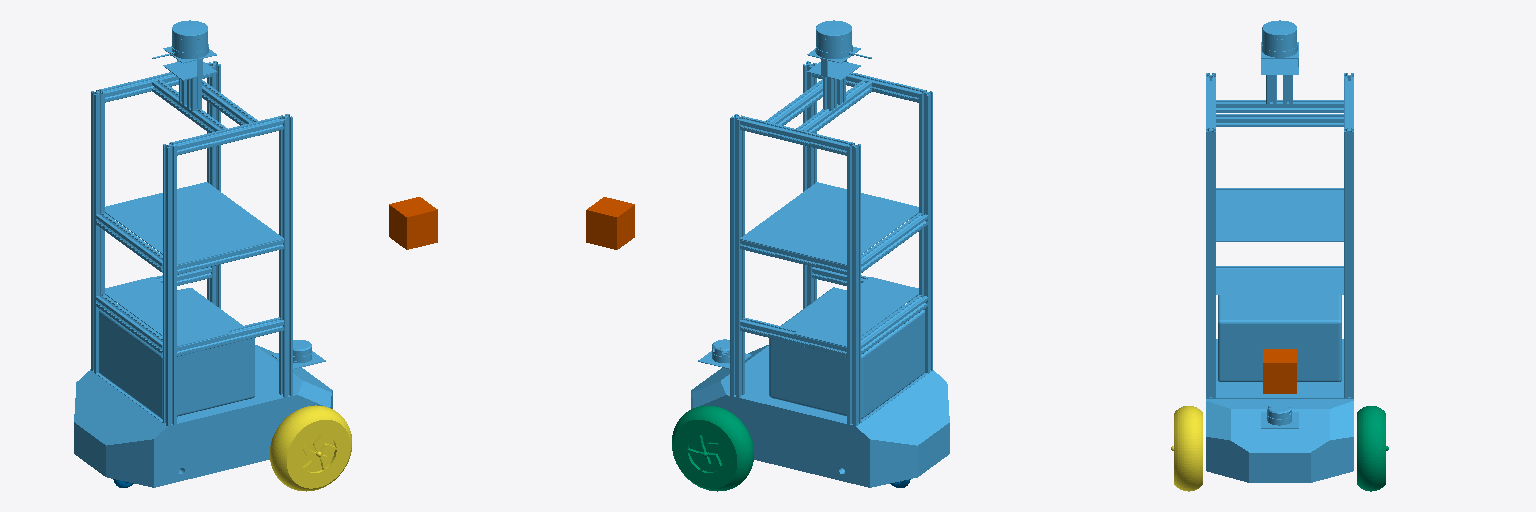
robot.urdf — autolabor_description:
<?xml version="1.0"?>
<robot name="autolabor_description">
  <joint name="dummy_joint" type="fixed">
    <parent link="base_link"/>
    <child link="body"/>
    <origin xyz="0 0 0.124" rpy="0 0 0"/>
  </joint>
  <joint name="cam_joint" type="fixed">
    <parent link="body"/>
    <child link="camera"/>
    <origin xyz="0.7 0 0.5" rpy="0 1.570796327 0"/>
  </joint>
  <joint name="3d_joint" type="fixed">
    <parent link="body"/>
    <child link="3d"/>
    <origin xyz="0 0 1.5" rpy="0 0 0"/>
  </joint>
  <joint name="fljoint" type="continuous">
    <parent link="body"/>
    <child link="flw"/>
    <origin rpy="0 0 0" xyz="0.22 0.275 0.03"/>
    <axis xyz="0 1 0"/>
  </joint>
  <joint name="frjoint" type="continuous">
    <parent link="body"/>
    <child link="frw"/>
    <origin rpy="0 0 0" xyz="0.22 -0.275 0.03"/>
    <axis xyz="0 1 0"/>
  </joint>
  <joint name="cjoint" type="fixed">
    <parent link="body"/>
    <child link="caster"/>
    <origin rpy="0 0 0" xyz="-0.221 0 -0.056"/>
  </joint>

  <link name="base_link"/>
  <link name="body">
    <inertial>
      <mass value="40"/>
      <origin rpy="0  0  0" xyz="0 0 0"/>
      <inertia ixx="5.95042" ixy="0" ixz="0" iyy="7.091" iyz="0" izz="2.37325"/>
    </inertial>
    <collision>
      <origin rpy="0  0  0" xyz="0 0 0"/>
      <geometry>
        <mesh filename="package://autolabor_description/meshes/3d_model/body.stl" scale="0.001 0.001 0.001"/>
      </geometry>
    </collision>
    <visual>
      <origin rpy="0  0  0" xyz="0 0 0"/>
      <geometry>
        <mesh filename="package://autolabor_description/meshes/3d_model/body.stl" scale="0.001 0.001 0.001"/>
      </geometry>
    </visual>
  </link>
  <link name="flw">
    <inertial>
      <mass value="5"/>
      <origin rpy="3.141592654  0  0" xyz="0 0 0"/>
      <inertia ixx="0.729167" ixy="0" ixz="0" iyy="0.729167" iyz="0" izz="0.625"/>
    </inertial>
    <collision>
      <origin rpy="3.141592654  0  0" xyz="0  0  0"/>
      <geometry>
        <mesh filename="package://autolabor_description/meshes/3d_model/frw.stl" scale="0.001 0.001 0.001"/>
      </geometry>
    </collision>
    <visual>
      <origin rpy="3.141592654  0  0" xyz="0  0  0"/>
      <geometry>
        <mesh filename="package://autolabor_description/meshes/3d_model/frw.stl" scale="0.001 0.001 0.001"/>
      </geometry>
    </visual>
  </link>
  <link name="frw">
    <inertial>
      <mass value="5"/>
      <origin rpy="0  0  0" xyz="0 0 0"/>
      <inertia ixx="0.729167" ixy="0" ixz="0" iyy="0.729167" iyz="0" izz="0.625"/>
    </inertial>
    <collision>
      <origin rpy="0  0  0" xyz="0 0 0"/>
      <geometry>
        <mesh filename="package://autolabor_description/meshes/3d_model/frw.stl" scale="0.001 0.001 0.001"/>
      </geometry>
    </collision>
    <visual>
      <origin rpy="0  0  0" xyz="0 0 0"/>
      <geometry>
        <mesh filename="package://autolabor_description/meshes/3d_model/frw.stl" scale="0.001 0.001 0.001"/>
      </geometry>
    </visual>
  </link>
  <link name="caster">
    <inertial>
      <mass value="5"/>
      <origin rpy="0  0  0" xyz="0 0 0"/>
      <inertia ixx="0.729167" ixy="0" ixz="0" iyy="0.729167" iyz="0" izz="0.625"/>>
    </inertial>
    <collision>
      <origin rpy="0  0  0" xyz="0  0  0"/>
      <geometry>
        <mesh filename="package://autolabor_description/meshes/3d_model/caster.stl" scale="0.001 0.001 0.001"/>
      </geometry>
    </collision>
    <visual>
      <origin rpy="0  0  0" xyz="0  0  0"/>
      <geometry>
        <mesh filename="package://autolabor_description/meshes/3d_model/caster.stl" scale="0.001 0.001 0.001"/>
      </geometry>
    </visual>
  </link>
  <link name="camera">
    <inertial>
      <mass value="0.001"/>
      <origin rpy="0 0 0" xyz="0 0 0"/>
      <inertia ixx="0.000166667" iyy="0.000166667" izz="0.000166667" ixy="0" ixz="0" iyz="0"/>
    </inertial>
    <collision>
      <origin rpy="0 0 0" xyz="0 0 0"/>
      <geometry>
        <box size="0.1 0.1 0.1"/>
      </geometry>
    </collision>
    <visual>
      <origin rpy="0 0 0" xyz="0 0 0"/>
      <geometry>
        <box size="0.1 0.1 0.1"/>
      </geometry>
    </visual>
  </link>
  <link name="3d"/>


  <transmission name="tran1">
    <type>transmission_interface/SimpleTransmission</type>
    <joint name="frjoint">
      <hardwareInterface>hardware_interface/VelocityJointInterface</hardwareInterface>
    </joint>
    <actuator name="motor1">
      <mechanicalReduction>1</mechanicalReduction>
    </actuator>
  </transmission>
  <transmission name="tran2">
    <type>transmission_interface/SimpleTransmission</type>
    <joint name="fljoint">
      <hardwareInterface>hardware_interface/VelocityJointInterface</hardwareInterface>
    </joint>
    <actuator name="motor2">
      <mechanicalReduction>1</mechanicalReduction>
    </actuator>
  </transmission>

  <gazebo reference="base_link">
    <mu1>1e+6</mu1>
    <mu2>1e+6</mu2>
  </gazebo>
  <gazebo reference="flw">
    <mu1>1e+6</mu1>
    <mu2>1e+6</mu2>
  </gazebo>
  <gazebo reference="frw">
    <mu1>1e+6</mu1>
    <mu2>1e+6</mu2>
  </gazebo>
  <gazebo reference="caster">
    <mu1>0</mu1>
    <mu2>0</mu2>
  </gazebo>
  <gazebo>
    <plugin name="imu_plugin" filename="libgazebo_ros_imu.so">
      <alwaysOn>true</alwaysOn>
      <bodyName>base_link</bodyName>
      <topicName>imu</topicName>
      <serviceName>imu_service</serviceName>
      <gaussianNoise>0.0</gaussianNoise>
      <updateRate>20.0</updateRate>
    </plugin>
  </gazebo>
  <gazebo reference="camera">
    <sensor type="camera" name="camera">
      <update_rate>60.0</update_rate>
      <camera>
        <horizontal_fov>1.5</horizontal_fov>
        <image>
          <width>1080</width>
          <height>720</height>
          <format>R8G8B8</format>
        </image>
        <clip>
          <near>0.1</near>
          <far>10</far>
        </clip>
      </camera>
      <plugin name="camera_controller" filename="libgazebo_ros_camera.so">
        <alwaysOn>true</alwaysOn>
        <cameraName>camera1</cameraName>
        <imageTopicName>image_raw</imageTopicName>
        <cameraInfoTopicName>camera_info</cameraInfoTopicName>
        <frameName>camera</frameName>
      </plugin>
    </sensor>
  </gazebo>
  <gazebo reference="3d">
    <sensor type="gpu_ray" name="ray">
      <update_rate>60.0</update_rate>
      <ray>
        <scan>
          <horizontal>
            <samples>1000</samples>
            <resolution>1</resolution>
            <min_angle>-3.1415</min_angle>
            <max_angle>3.1415</max_angle>
          </horizontal>
          <vertical>
            <samples>16</samples>
            <resolution>1</resolution>
            <min_angle>-0.261799388</min_angle>
            <max_angle>0.261799388</max_angle>
          </vertical>
        </scan>
        <range>
          <min>0.1</min>
          <max>10</max>
          <resolution>0.01</resolution>
        </range>
      </ray>
      <plugin name="ray_controller" filename="libgazebo_ros_velodyne_gpu_laser.so">
        <topicName>scan</topicName>
        <frameName>3d</frameName>
      </plugin>
    </sensor>
  </gazebo>

  <gazebo>
    <plugin name="differential_drive_controller" filename="libgazebo_ros_diff_drive.so">
      <alwaysOn>true</alwaysOn>
      <updateRate>100</updateRate>
      <leftJoint>fljoint</leftJoint>
      <rightJoint>frjoint</rightJoint>
      <wheelSeparation>0.55</wheelSeparation>
      <wheelDiameter>0.248</wheelDiameter>
      <torque>20</torque>
      <commandTopic>cmd_vel</commandTopic>
      <odometryTopic>odom</odometryTopic>
      <odometryFrame>odom</odometryFrame>
      <robotBaseFrame>base_link</robotBaseFrame>
      <rosDebugLevel>na</rosDebugLevel>
      <publishWheelTF>false</publishWheelTF>
      <publishOdomTF>true</publishOdomTF>
      <publishWheelJointState>false</publishWheelJointState>
      <wheelAcceleration>1</wheelAcceleration>
      <wheelTorque>50</wheelTorque>
      <publishTf>true</publishTf>
    </plugin>
  </gazebo>

  <gazebo>
    <plugin name="gazebo_ros_control" filename="libgazebo_ros_control.so">
      <robotSimType>gazebo_ros_control/DefaultRobotHWSim</robotSimType>
    </plugin>
  </gazebo>

</robot>

--- What the picture shows (computed from the rendered views, not written in the file) ---
3 views of the same robot in one strip: view 1: azimuth 30°, elevation 25°; view 2: azimuth 150°, elevation 25°; view 3: azimuth 270°, elevation 25° (orthographic).
Robot: autolabor_description — 7 links, 6 joints (2 continuous, 4 fixed); root link base_link; default pose: every joint at zero.
Visible links, largest first — view 1: body, frw, camera; view 2: body, flw, camera; view 3: body, flw, frw, camera.
Boxes of the visible links, left/top/right/bottom form: body: left=74, top=20, right=332, bottom=487; frw: left=270, top=405, right=351, bottom=491; camera: left=389, top=197, right=437, bottom=249; body: left=691, top=20, right=949, bottom=487; flw: left=672, top=406, right=753, bottom=491; camera: left=586, top=197, right=634, bottom=249; body: left=1206, top=20, right=1353, bottom=482; flw: left=1357, top=406, right=1388, bottom=491; frw: left=1171, top=406, right=1202, bottom=491; camera: left=1263, top=349, right=1296, bottom=393.
Size in the robot's own frame: 1.08 by 0.6314 by 1.36 metres.
Meshes: 3 distinct files referenced, 4 mesh visuals loaded (3 binary STL).
